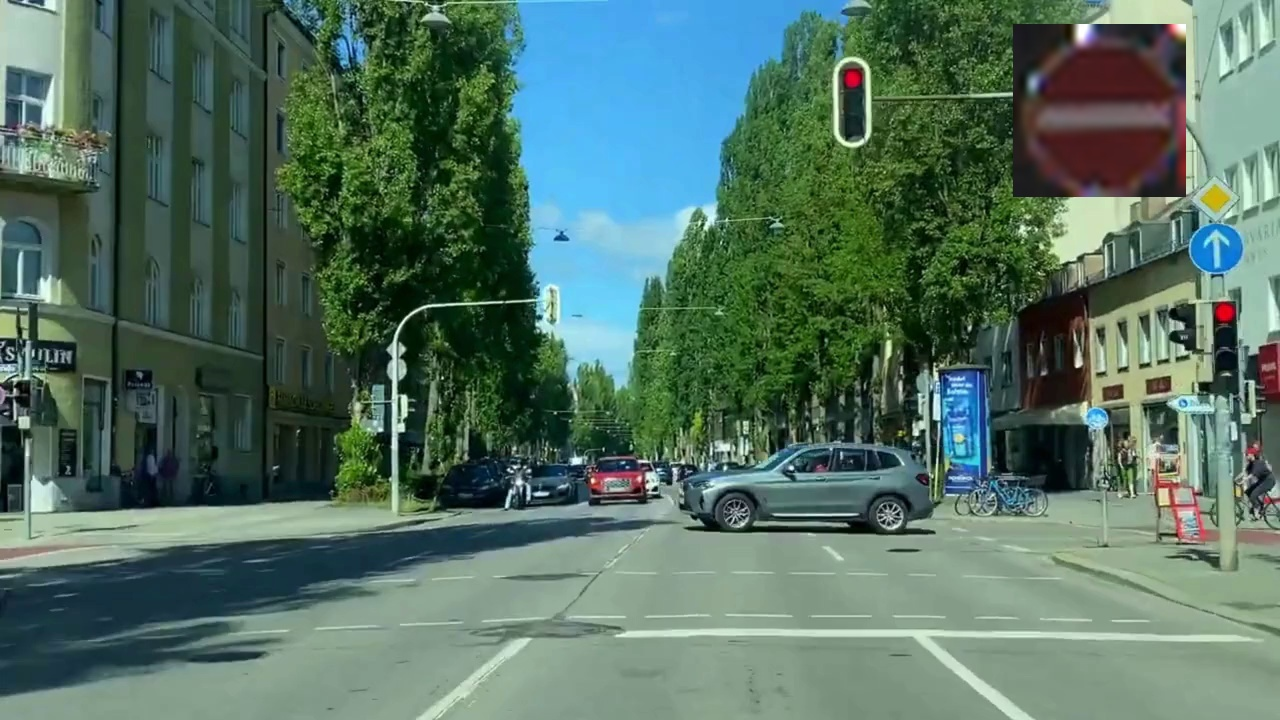No entry: (1013, 24, 1186, 197)
